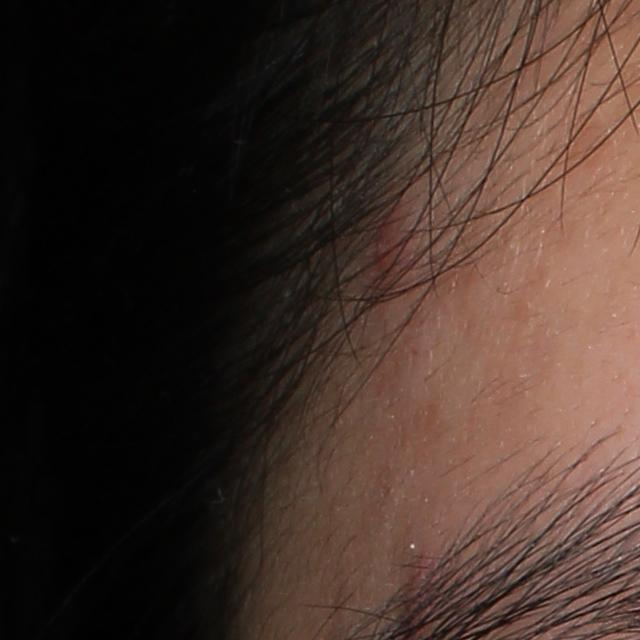papule: (372, 203, 416, 286)
